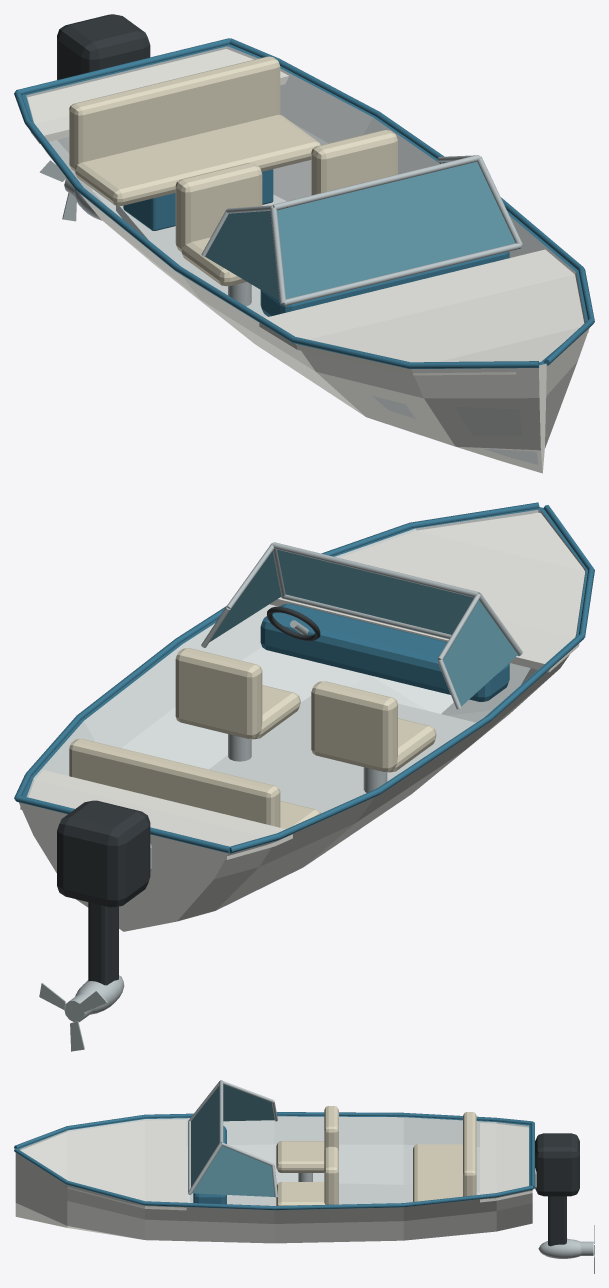
The model's file is boat_small_motorboat.glb.
The picture shows the model from 3 angles, top to bottom: view 1: azimuth 30°, elevation 25°; view 2: azimuth 150°, elevation 25°; view 3: azimuth 270°, elevation 25°; orthographic projection. The views are drawn at different scales.
Parts seen in each view (by area): view 1: Motorboat hollow hull, Motorboat forward deck, Front windscreen, Rear bench back, Rear bench cushion, Motorboat stern deck, Front seat back, Motorboat gunwale rail, Outboard motor cover, Front seat back.001, Side windscreen, Motorboat gunwale rail.001 (+9 smaller); view 2: Motorboat hollow hull, Motorboat forward deck, Dashboard console, Tapered cockpit floor, Rear bench back, Outboard motor cover, Front windscreen, Motorboat stern deck, Front seat back.001, Front seat back, Motorboat gunwale rail, Side windscreen (+11 smaller); view 3: Motorboat hollow hull, Motorboat forward deck, Motorboat stern deck, Side windscreen.001, Rear bench cushion, Outboard motor cover, Motorboat gunwale rail.001, Tapered cockpit floor, Front windscreen, Motorboat gunwale rail, Front seat cushion, Side windscreen (+10 smaller).
Boxes of the visible parts, x1,y1,x2,y2 form: Motorboat hollow hull: (21,44,589,473); Motorboat forward deck: (259,249,588,375); Front windscreen: (277,162,515,298); Rear bench back: (69,56,280,171); Rear bench cushion: (74,114,320,205); Motorboat stern deck: (27,49,288,143); Front seat back: (175,163,262,251); Motorboat gunwale rail: (14,90,539,368); Outboard motor cover: (57,14,150,79); Front seat back.001: (311,130,397,195); Side windscreen: (205,211,279,300); Motorboat gunwale rail.001: (229,38,594,365); Motorboat hollow hull: (19,507,587,931); Motorboat forward deck: (270,512,585,672); Dashboard console: (260,603,509,701); Tapered cockpit floor: (209,696,475,813); Rear bench back: (69,738,280,827); Outboard motor cover: (57,800,150,907); Front windscreen: (277,549,473,634); Motorboat stern deck: (20,770,292,859); Front seat back.001: (175,648,262,738); Front seat back: (311,681,397,771); Motorboat gunwale rail: (230,505,594,853); Side windscreen: (443,600,518,706); Motorboat hollow hull: (15,1115,532,1243); Motorboat forward deck: (20,1119,186,1210); Motorboat stern deck: (480,1123,532,1202); Side windscreen.001: (192,1146,274,1196); Rear bench cushion: (413,1144,462,1201); Outboard motor cover: (535,1133,579,1196); Motorboat gunwale rail.001: (14,1148,533,1210); Tapered cockpit floor: (190,1183,412,1205); Front windscreen: (191,1086,219,1187); Motorboat gunwale rail: (14,1112,532,1148); Front seat cushion: (276,1141,324,1172); Side windscreen: (223,1084,274,1121).
Bounding box in the file's own units: 2.02 × 1.59 × 5.17.
